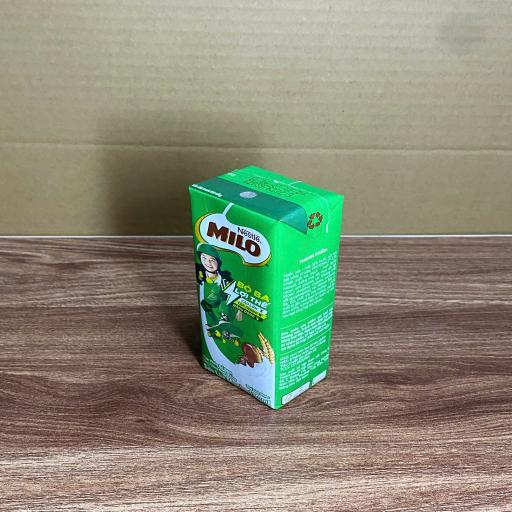milo: (190, 163, 346, 408)
